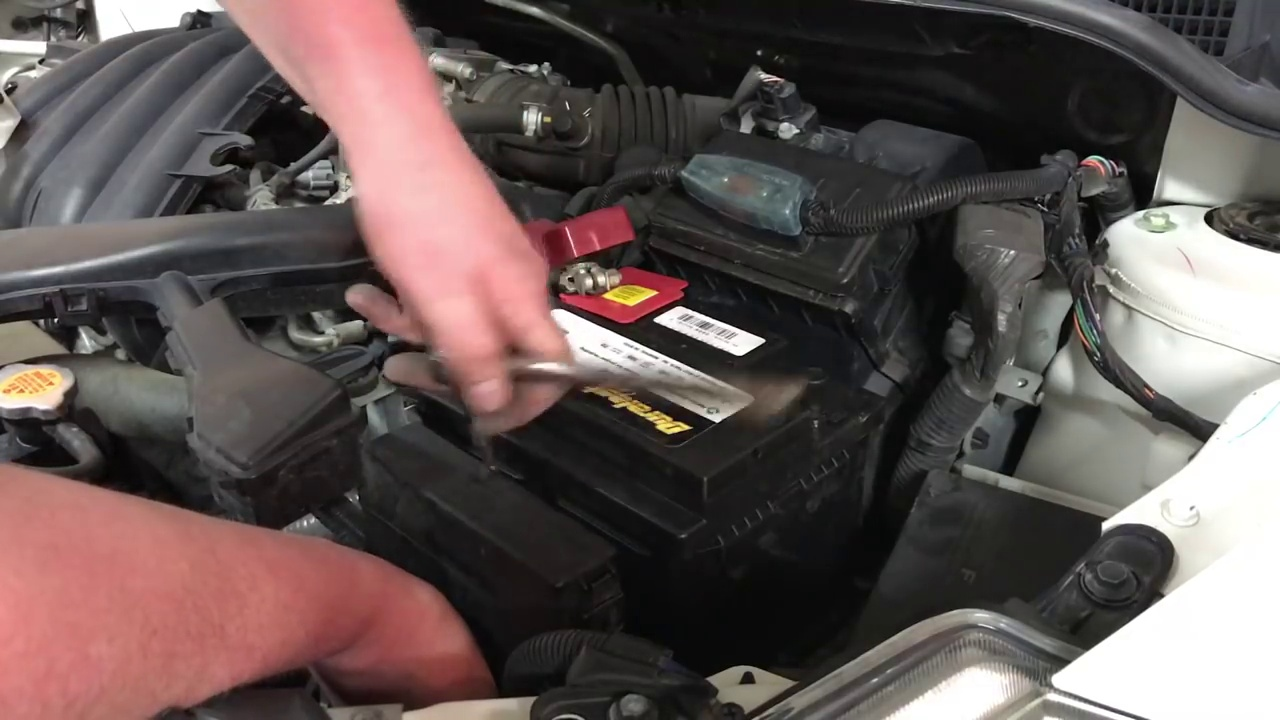battery: (441, 222, 812, 488)
pos_touched: (474, 188, 673, 334)
